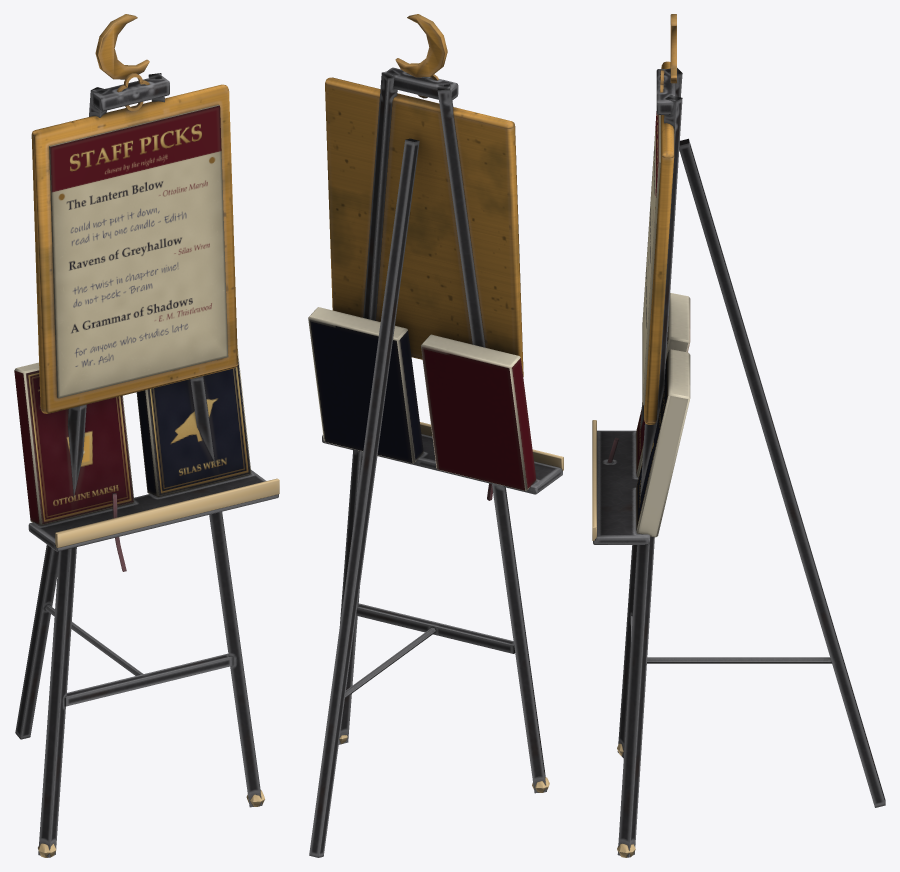
File: StaffPicksEasel.fbx
The picture shows the model from 3 angles, left to right: view 1: azimuth 30°, elevation 25°; view 2: azimuth 150°, elevation 25°; view 3: azimuth 270°, elevation 25°; orthographic projection. The views are drawn at different scales.
Parts seen in each view (by area): view 1: StaffPicksEasel; view 2: StaffPicksEasel; view 3: StaffPicksEasel.
Part boxes in pixels (x1=…): StaffPicksEasel: x1=14, y1=14, x2=279, y2=857; StaffPicksEasel: x1=308, y1=14, x2=563, y2=857; StaffPicksEasel: x1=592, y1=14, x2=885, y2=857.
Size of the model in its own units: 162 by 549 by 185.
